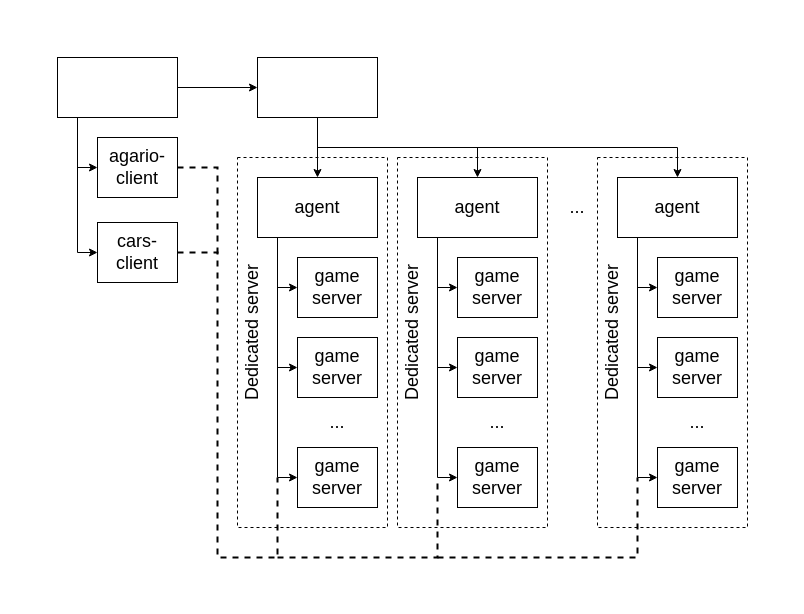
Image size: 804x614. Some labels were removed from this diagram. The centre of each missing label's shape, as x and y in pixels:
"lobby-client" belongs at point (117, 87).
"lobby-server" belongs at point (317, 87).
